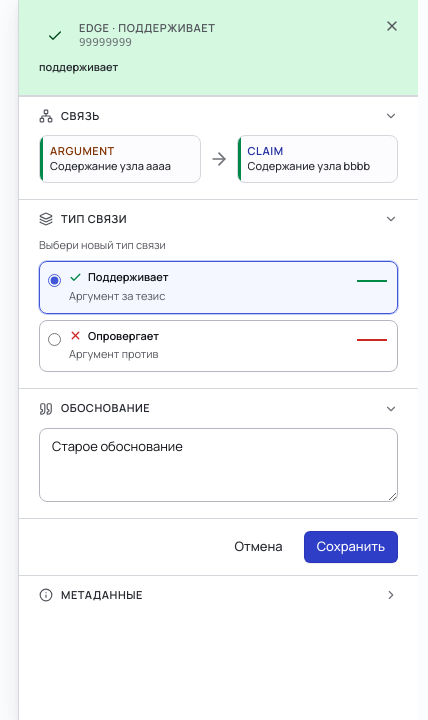
Test: EdgeDetailsPanel › Отмена возвращает в view-mode без запросов
What coordinates should you click on to do the following:
click the button "Отмена"
I would click on:
 (259, 546)
Its box is [222, 530, 296, 562].
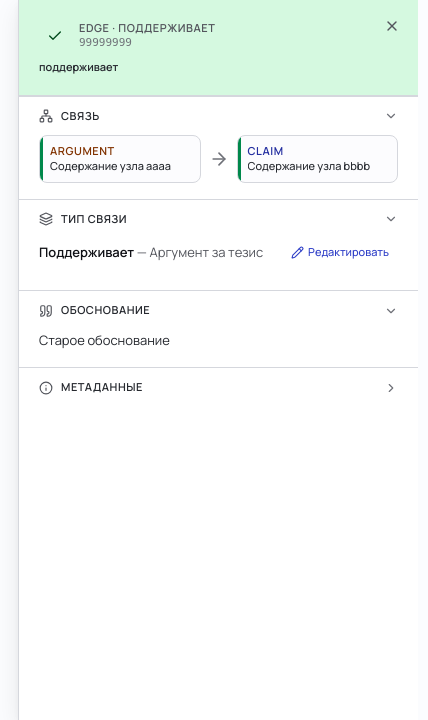
Check: the text "Старое обоснование" is shown, box [39, 331, 170, 349]
